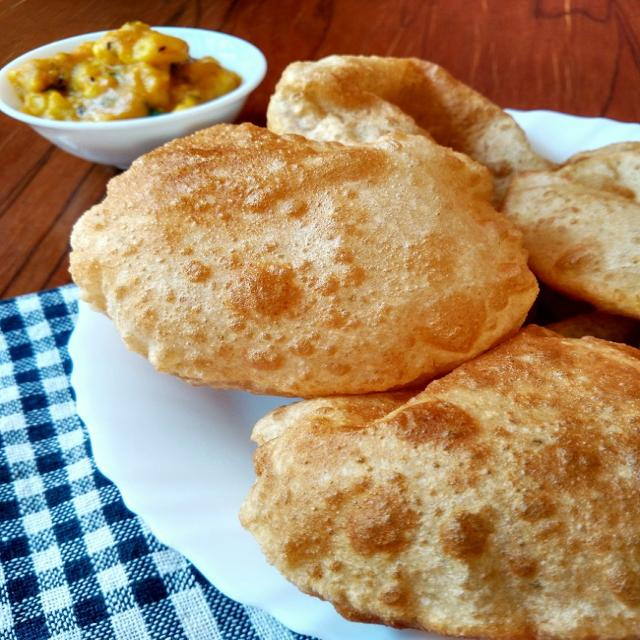poori: (59, 117, 540, 400), (238, 345, 640, 640), (266, 43, 547, 209), (514, 131, 640, 321)
